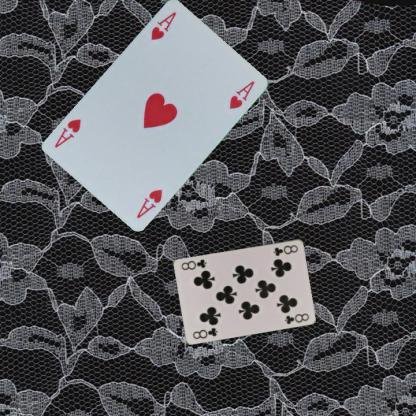8c: (190, 325, 219, 340), (271, 242, 299, 257)
Ah: (134, 186, 164, 220), (148, 9, 177, 41)
